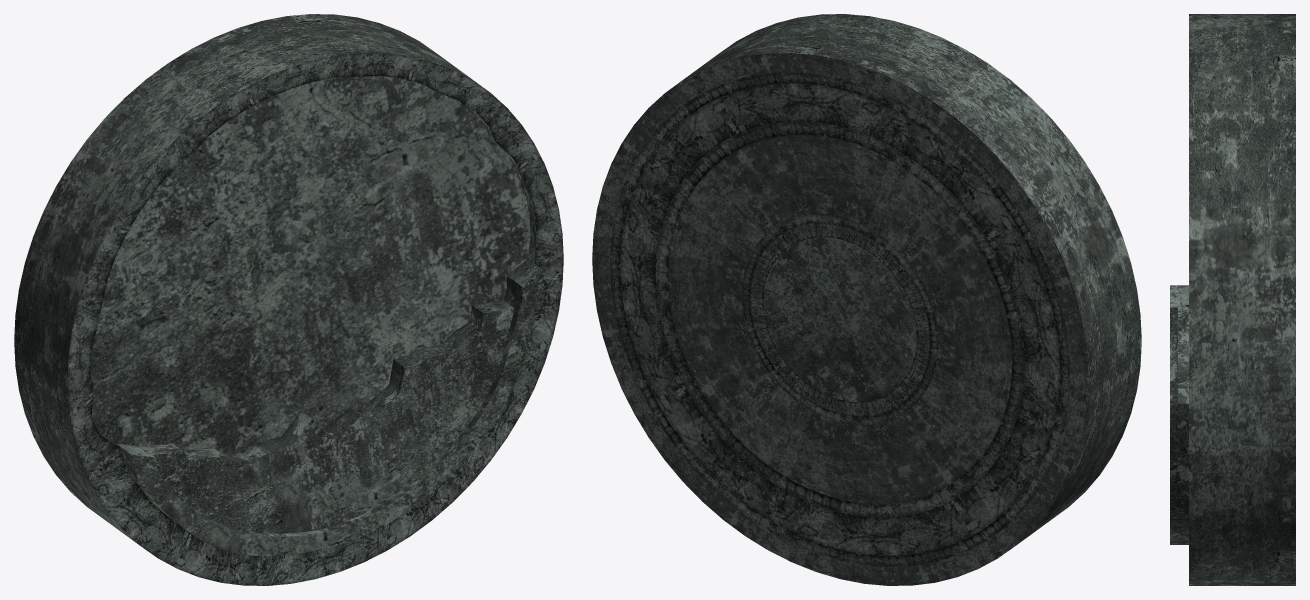
3 views of the same model, side by side, from view 1: azimuth 30°, elevation 25°; view 2: azimuth 150°, elevation 25°; view 3: azimuth 270°, elevation 25° (orthographic).
Parts seen in each view (by area): view 1: mg_9_object_0; view 2: mg_9_object_0; view 3: mg_9_object_0.
Boxes of the visible parts, bbox=[...] form: mg_9_object_0: bbox=[14, 14, 563, 585]; mg_9_object_0: bbox=[592, 14, 1141, 585]; mg_9_object_0: bbox=[1170, 14, 1295, 585].
Bounding box in the file's own units: 362 × 362 × 79.57.
